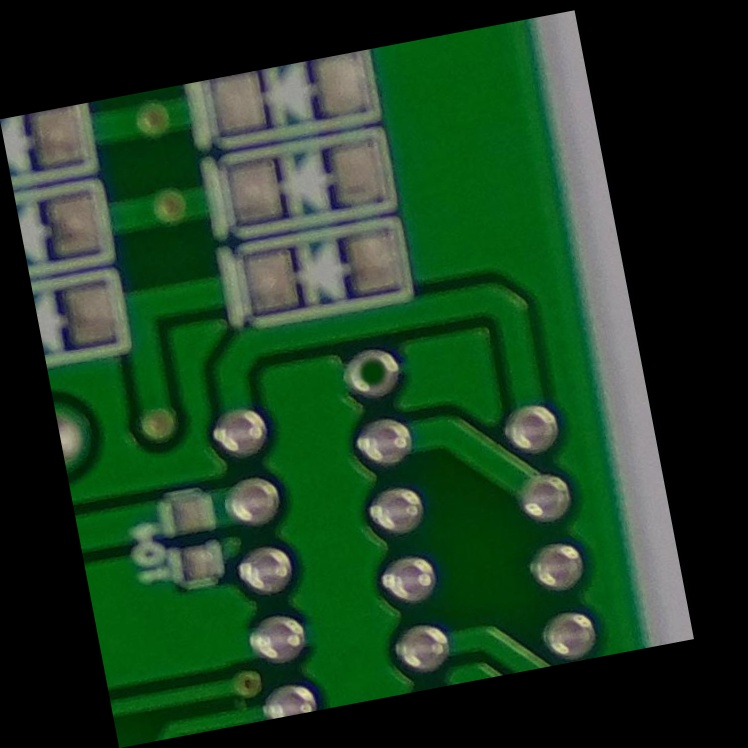missing_hole: (337, 336, 411, 407)
